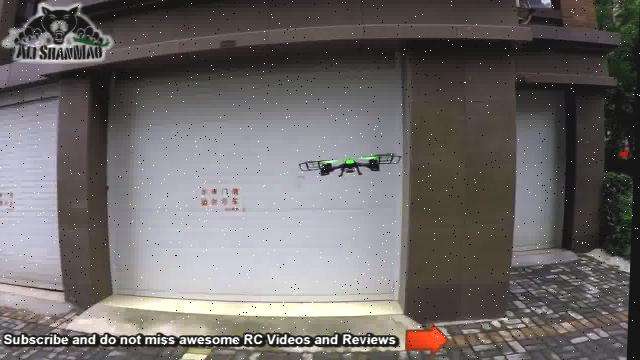drone: (299, 148, 407, 178)
